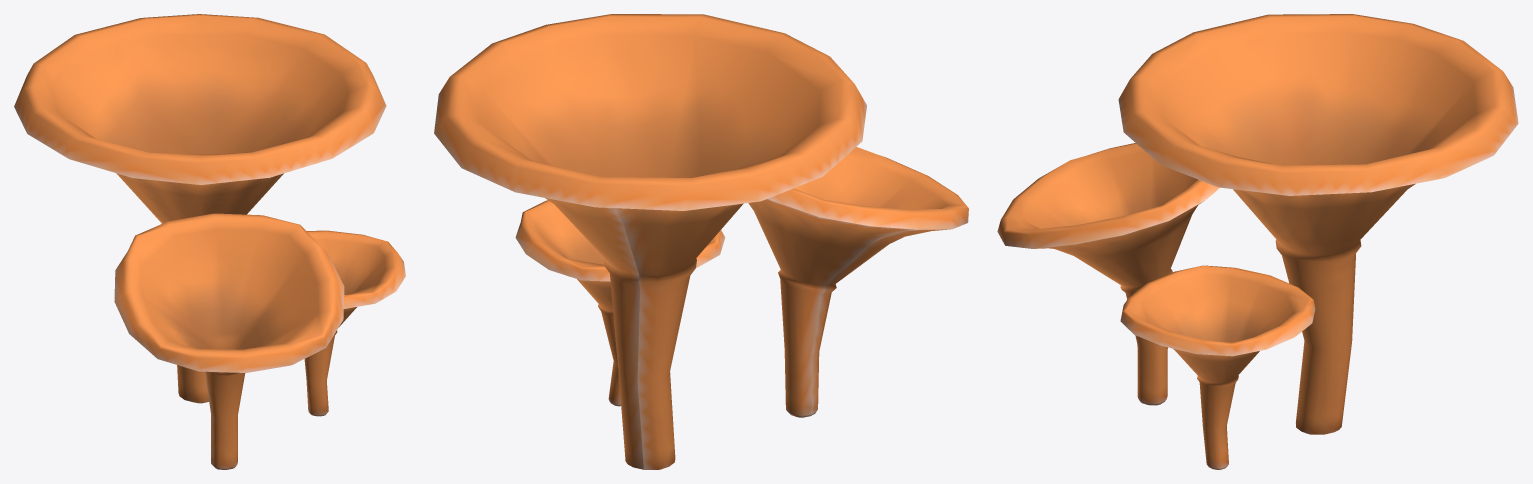
Rendered from houba_ryzec.glb.
The picture shows the model from 3 angles, left to right: view 1: azimuth 30°, elevation 25°; view 2: azimuth 150°, elevation 25°; view 3: azimuth 270°, elevation 25°; orthographic projection. The views are drawn at different scales.
Visible parts, largest first — view 1: houba_ryzec; view 2: houba_ryzec; view 3: houba_ryzec.
Boxes of the visible parts, left/top/right/bottom form: houba_ryzec: left=14, top=14, right=405, bottom=469; houba_ryzec: left=434, top=14, right=968, bottom=469; houba_ryzec: left=997, top=14, right=1518, bottom=469.
Size of the model in its own units: 0.1077 by 0.0988 by 0.1385.
Materials: 1 (1 with a texture image).
